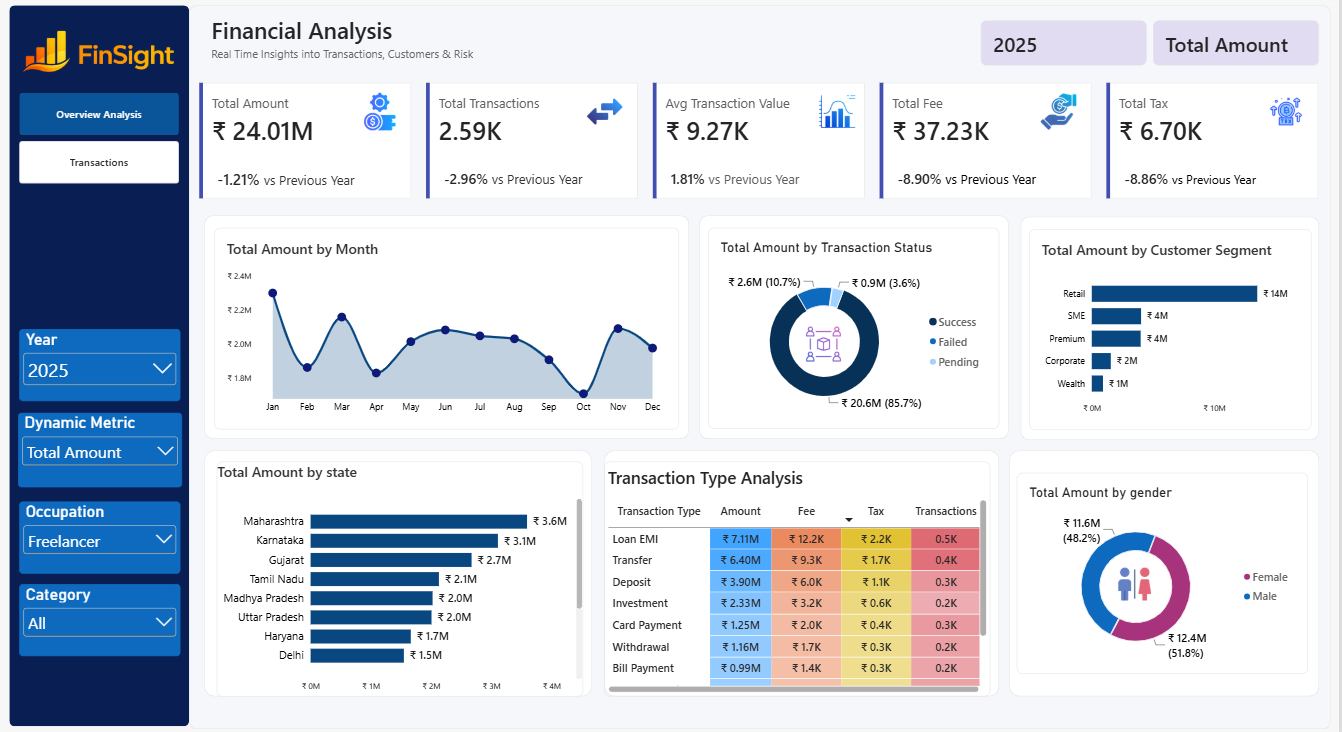

Layout of this report page (visuals, bound fields, positions):
{"tool":"powerbi","page":{"name":"Overview Analysis","canvas":[1800,1000],"ordinal":0},"visuals":[{"type":"shape","box":[15.4,15.4,241.2,966.8],"z":0},{"type":"shape","box":[256.6,15.4,1530,970.6],"z":1000},{"type":"image","box":[25.1,34.7,223.8,84.9],"z":2000},{"type":"cardVisual","fields":{"Data":["finance_transactions.Dashboard Title"]},"box":[270.2,15.4,395.6,90.7],"z":3000},{"type":"cardVisual","fields":{"Data":["finance_transactions.Total Amount","finance_transactions.Total Transactions","finance_transactions.Avg Transaction Value","finance_transactions.Total Fee","finance_transactions.Total Tax"]},"box":[270.2,119.6,1501.3,155],"z":4000},{"type":"slicer","fields":{"Values":["Calender.Year"]},"box":[28.5,449.1,216.1,96.5],"z":5000},{"type":"image","box":[482.4,133.1,57.9,50.2],"z":6000},{"type":"image","box":[783.5,133.1,57.9,50.2],"z":7000},{"type":"image","box":[1393.2,133.1,57.9,50.2],"z":8000},{"type":"image","box":[1096.1,133.1,57.9,50.2],"z":9000},{"type":"image","box":[1698.1,133.1,57.9,50.2],"z":10000},{"type":"slicer","fields":{"Values":["Dynamic Metric.Dynamic Metric"]},"box":[26.8,561.3,220,100.3],"z":11000},{"type":"shape","box":[275.9,297.2,650,300],"z":12000},{"type":"areaChart","fields":{"Category":["Calender.Month"],"Y":["finance_transactions.Total Amount"]},"box":[289.5,312.6,623.3,270.2],"z":13000},{"type":"cardVisual","fields":{"Data":["finance_transactions.Selected Year","finance_transactions.Selected Dynamic Measure"]},"box":[1317,35.2,454.1,62],"z":14000},{"type":"shape","box":[940,296.6,415,300],"z":15000},{"type":"donutChart","fields":{"Category":["finance_transactions.transaction_status"],"Y":["finance_transactions.Total Amount"]},"box":[951.7,313.3,390.4,269.8],"z":16000},{"type":"shape","box":[1370.7,298.3,400.5,299.9],"z":17000},{"type":"barChart","fields":{"Category":["customers.customer_segment"],"Y":["finance_transactions.Total Amount"]},"box":[1382.4,315,378.7,269.8],"z":18000},{"type":"shape","box":[276.5,611.6,519.4,330.1],"z":19000},{"type":"barChart","fields":{"Category":["customers.state"],"Y":["finance_transactions.Total Amount"]},"box":[293.2,626.7,491,315],"z":20000},{"type":"shape","box":[812.7,611.6,529.5,330.1],"z":21000},{"type":"tableEx","title":"Transaction Type Analysis","fields":{"Values":["finance_transactions.transaction_type","finance_transactions.Total Amount","finance_transactions.Total Fee","finance_transactions.Total Tax","finance_transactions.Total Transactions"]},"box":[812.7,626.7,517.8,315],"z":22000},{"type":"shape","box":[1355.6,611.6,415.6,330.1],"z":23000},{"type":"donutChart","fields":{"Category":["customers.gender"],"Y":["finance_transactions.Total Amount"]},"box":[1365.6,641.8,390.4,269.8],"z":24000},{"type":"image","box":[1077.4,444,57.9,50.2],"z":25000},{"type":"image","box":[1495,765,58.6,50.3],"z":26000},{"type":"slicer","fields":{"Values":["customers.occupation"]},"box":[28.5,680.3,216.1,96.5],"z":27000},{"type":"slicer","fields":{"Values":["finance_transactions.merchant_category"]},"box":[28.5,790.9,216.1,96.5],"z":28000},{"type":"pageNavigator","box":[28.5,132.4,214.5,124],"z":29000}]}

Visuals, with their boxes in screenshot pixels (x1, y1, x2, y2), scaled from the page's 1800x1000 canvas onto the 1342x732 screenshot:
shape: [x1=11, y1=11, x2=191, y2=719]
shape: [x1=191, y1=11, x2=1332, y2=722]
image: [x1=19, y1=25, x2=186, y2=88]
cardVisual - finance_transactions.Dashboard Title: [x1=201, y1=11, x2=496, y2=78]
cardVisual - finance_transactions.Total Amount x finance_transactions.Total Transactions: [x1=201, y1=88, x2=1321, y2=201]
slicer - Calender.Year: [x1=21, y1=329, x2=182, y2=399]
image: [x1=360, y1=97, x2=403, y2=134]
image: [x1=584, y1=97, x2=627, y2=134]
image: [x1=1039, y1=97, x2=1082, y2=134]
image: [x1=817, y1=97, x2=860, y2=134]
image: [x1=1266, y1=97, x2=1309, y2=134]
slicer - Dynamic Metric.Dynamic Metric: [x1=20, y1=411, x2=184, y2=484]
shape: [x1=206, y1=218, x2=690, y2=437]
areaChart - Calender.Month x finance_transactions.Total Amount: [x1=216, y1=229, x2=681, y2=427]
cardVisual - finance_transactions.Selected Year x finance_transactions.Selected Dynamic Measure: [x1=982, y1=26, x2=1320, y2=71]
shape: [x1=701, y1=217, x2=1010, y2=437]
donutChart - finance_transactions.transaction_status x finance_transactions.Total Amount: [x1=710, y1=229, x2=1001, y2=427]
shape: [x1=1022, y1=218, x2=1321, y2=438]
barChart - customers.customer_segment x finance_transactions.Total Amount: [x1=1031, y1=231, x2=1313, y2=428]
shape: [x1=206, y1=448, x2=593, y2=689]
barChart - customers.state x finance_transactions.Total Amount: [x1=219, y1=459, x2=585, y2=689]
shape: [x1=606, y1=448, x2=1001, y2=689]
"Transaction Type Analysis" tableEx: [x1=606, y1=459, x2=992, y2=689]
shape: [x1=1011, y1=448, x2=1321, y2=689]
donutChart - customers.gender x finance_transactions.Total Amount: [x1=1018, y1=470, x2=1309, y2=667]
image: [x1=803, y1=325, x2=846, y2=362]
image: [x1=1115, y1=560, x2=1158, y2=597]
slicer - customers.occupation: [x1=21, y1=498, x2=182, y2=569]
slicer - finance_transactions.merchant_category: [x1=21, y1=579, x2=182, y2=650]
pageNavigator: [x1=21, y1=97, x2=181, y2=188]
